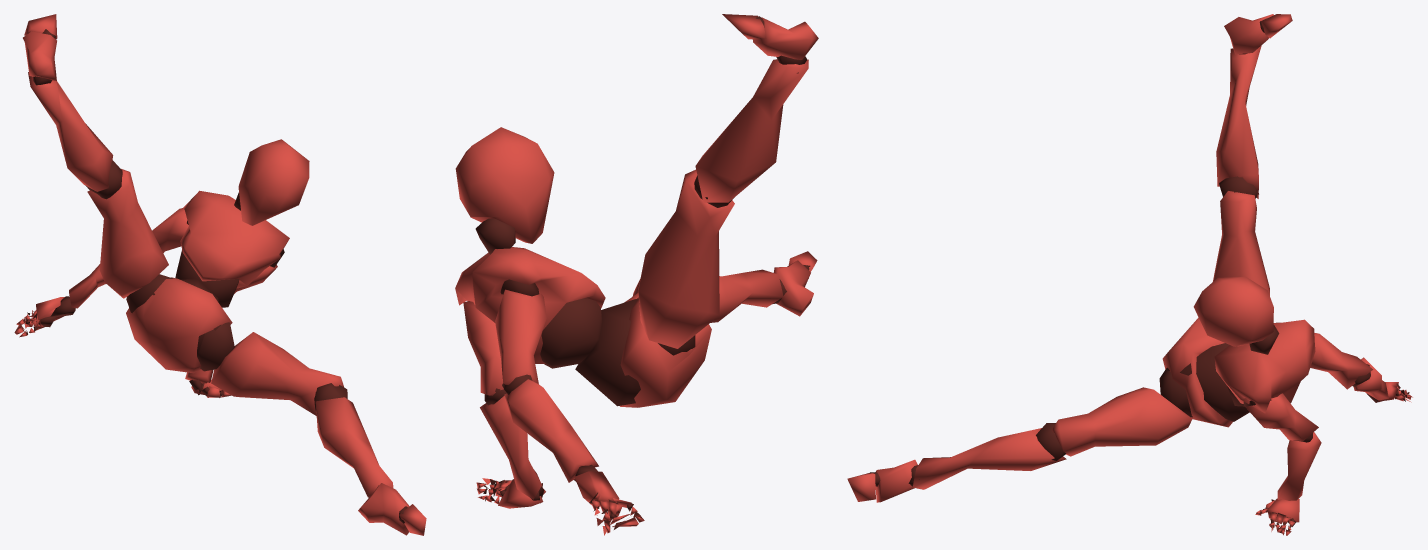
3 renders of one model, left to right at view 1: azimuth 30°, elevation 25°; view 2: azimuth 150°, elevation 25°; view 3: azimuth 270°, elevation 25°, orthographic. The views are drawn at different scales.
Visible parts, largest first — view 1: Beta_Surface; view 2: Beta_Surface; view 3: Beta_Surface.
Boxes of the visible parts, bbox=[...] form: Beta_Surface: bbox=[14, 14, 426, 535]; Beta_Surface: bbox=[455, 14, 818, 535]; Beta_Surface: bbox=[847, 14, 1412, 535].
Size of the model in its own units: 9.98 by 14.67 by 17.82.
